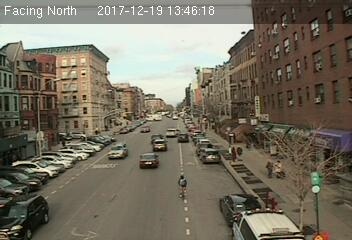bicycle: (177, 173, 189, 199)
car: (2, 194, 50, 240), (220, 193, 262, 223), (137, 153, 160, 169), (199, 148, 221, 164), (108, 143, 127, 159), (154, 139, 167, 151), (166, 128, 179, 137), (178, 133, 188, 142)
police: (229, 207, 304, 240)
